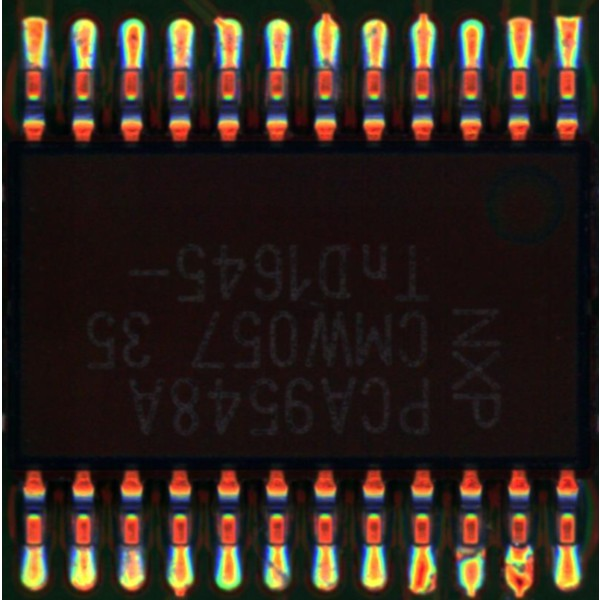Bad_podu: (29, 52, 42, 83), (174, 53, 187, 81), (513, 532, 526, 560), (318, 538, 333, 559), (367, 535, 380, 559), (127, 53, 138, 81), (466, 51, 477, 79), (174, 538, 188, 560), (370, 53, 382, 78), (269, 538, 284, 558), (560, 536, 573, 559), (123, 539, 139, 557), (563, 52, 574, 78), (418, 53, 429, 77), (221, 539, 234, 559), (416, 538, 429, 558), (27, 538, 42, 555), (77, 538, 89, 559), (223, 54, 233, 79), (273, 55, 283, 79)
